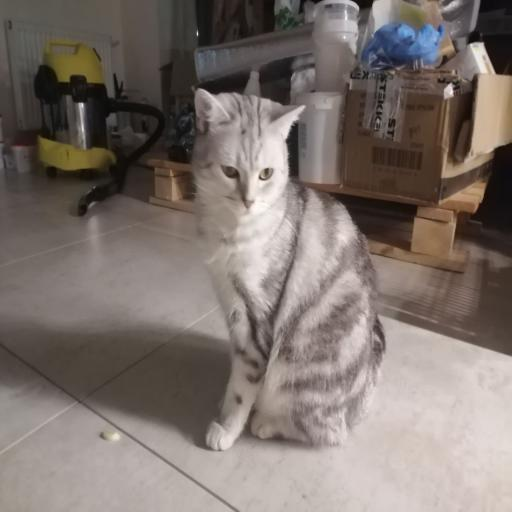cats: (192, 89, 386, 450)
